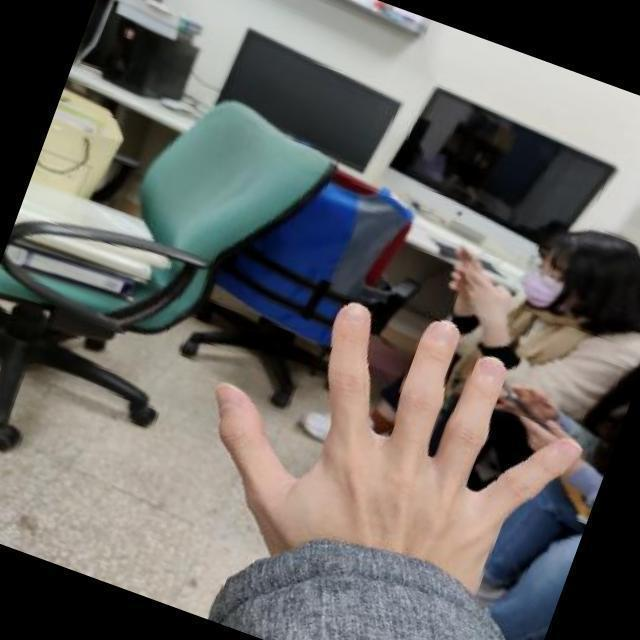hand: (204, 280, 599, 590)
